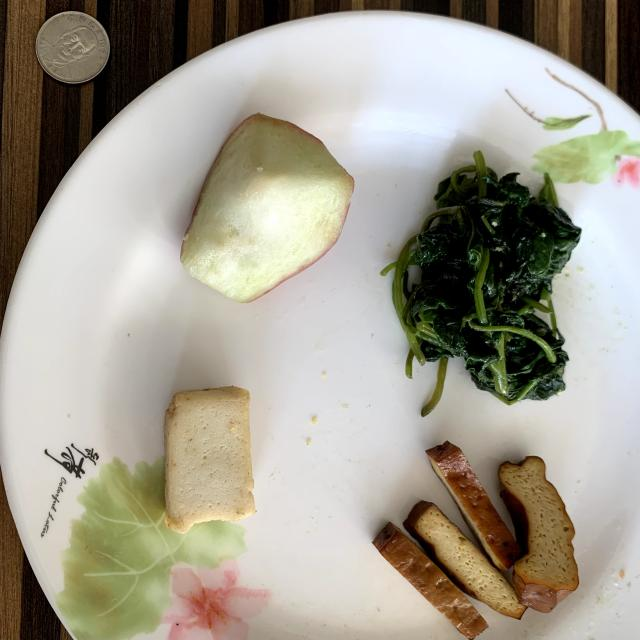coin: (36, 11, 110, 84)
creamy tofu -without sauce-: (164, 386, 255, 532)
firm tofu: (374, 441, 579, 639)
sweet potato leaves: (382, 151, 580, 414)
